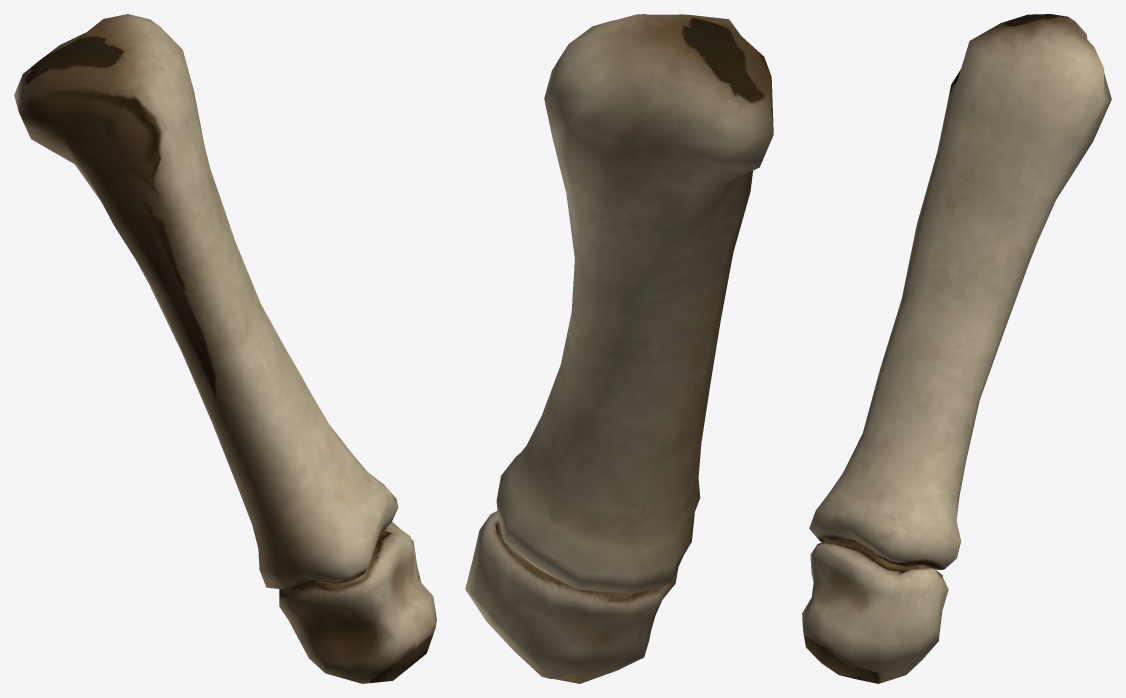
File: Metacarpal_V.glb
The picture shows the model from 3 angles, left to right: view 1: azimuth 30°, elevation 25°; view 2: azimuth 150°, elevation 25°; view 3: azimuth 270°, elevation 25°; orthographic projection. The views are drawn at different scales.
Parts seen in each view (by area): view 1: Metacarpal_V_Left1:Group42874; view 2: Metacarpal_V_Left1:Group42874; view 3: Metacarpal_V_Left1:Group42874.
Part boxes in pixels (<box>): Metacarpal_V_Left1:Group42874: <box>14,14,436,683</box>; Metacarpal_V_Left1:Group42874: <box>465,14,773,683</box>; Metacarpal_V_Left1:Group42874: <box>802,14,1111,683</box>.
Size of the model in its own units: 23.05 by 43.32 by 20.85.
Materials: 1 (1 with a texture image).
